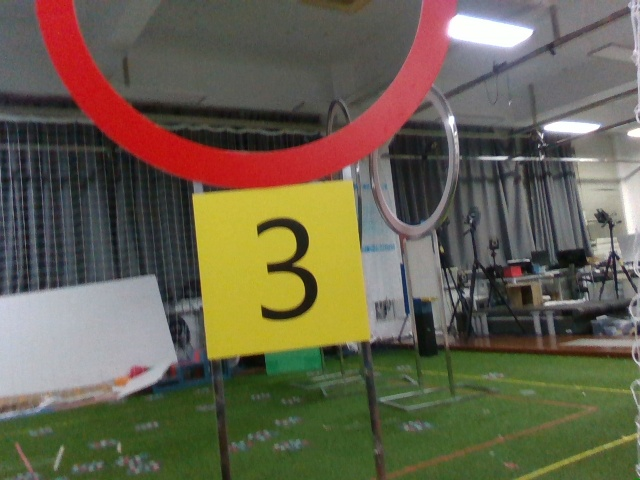target: (202, 191, 355, 344)
